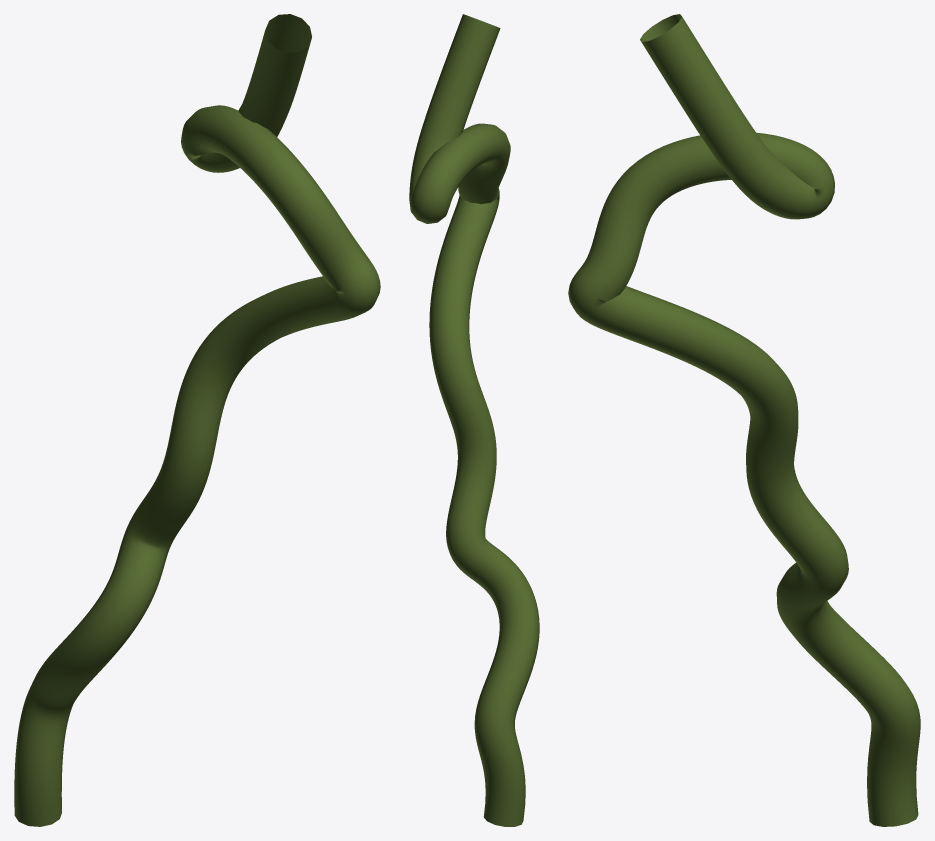
Rendered from vine.glb.
3 views of the same model, side by side, from view 1: azimuth 30°, elevation 25°; view 2: azimuth 150°, elevation 25°; view 3: azimuth 270°, elevation 25° (orthographic). The views are drawn at different scales.
Parts seen in each view (by area): view 1: NurbsPath; view 2: NurbsPath; view 3: NurbsPath.
Part boxes in pixels (x1,y1,x2,y2): NurbsPath: (14,14,380,826); NurbsPath: (409,14,539,826); NurbsPath: (568,14,920,826).
Bounding box in the file's own units: 1.55 × 5.78 × 2.11.
